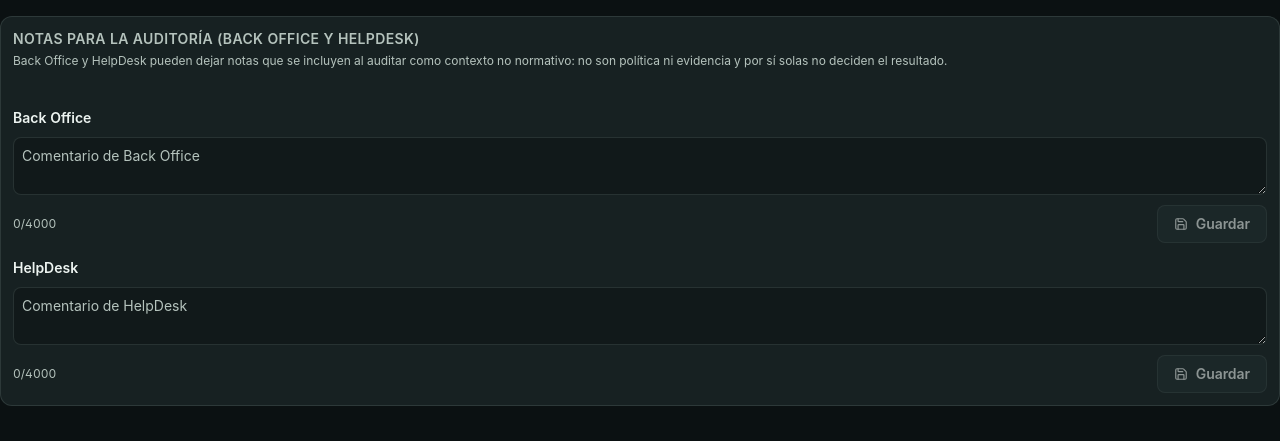
Test case: AreaQuickComments › guarda una nota con UPSERT y muestra confirmación sin dictamen previo
Type "intento de contacto" into the text box labelled "Back Office" at [640, 166], box [13,137,1267,195]
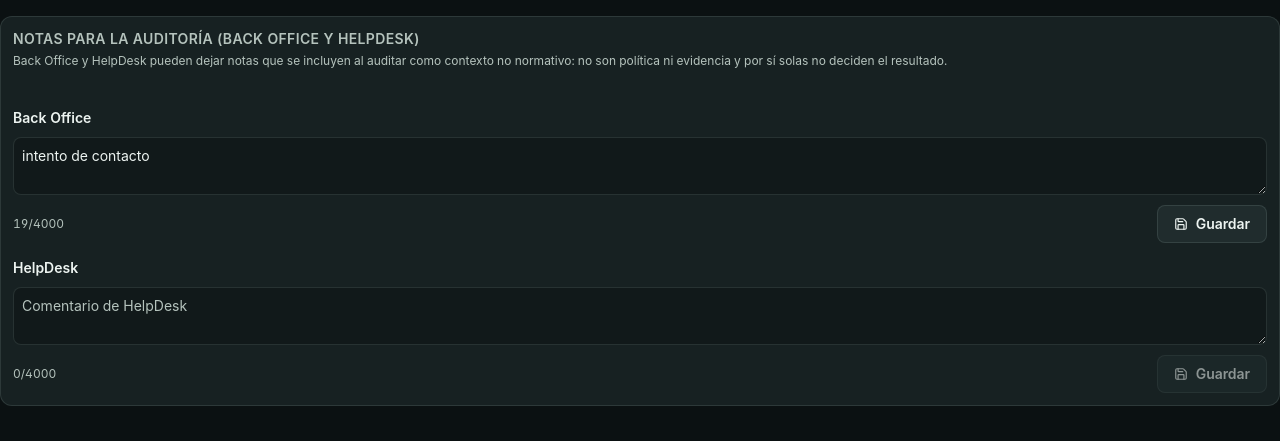
Click the button "Guardar" in the row of "19" at [1212, 224], box [1157,205,1267,243]
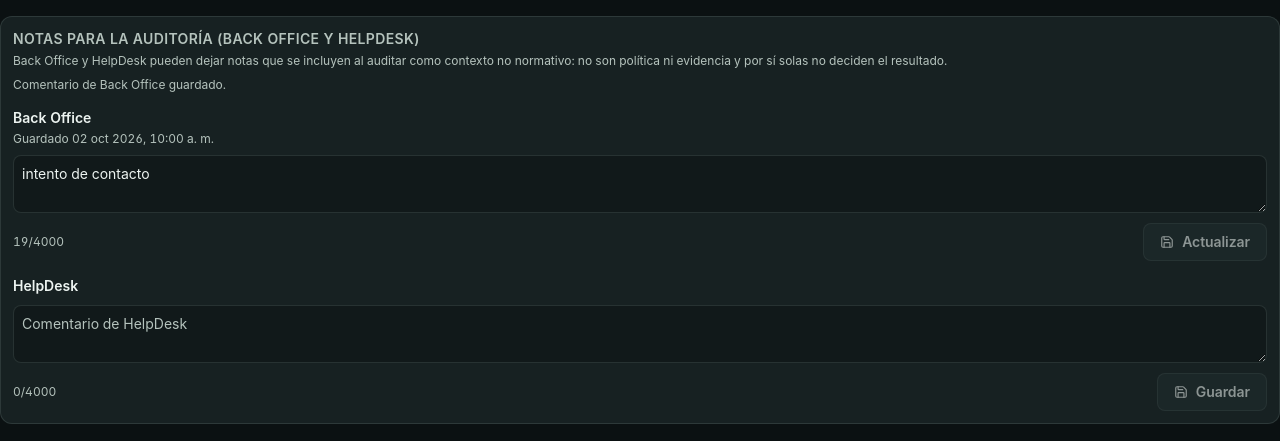
Check: the text "Comentario de Back Office guardado." is shown, box [13,77,226,92]
